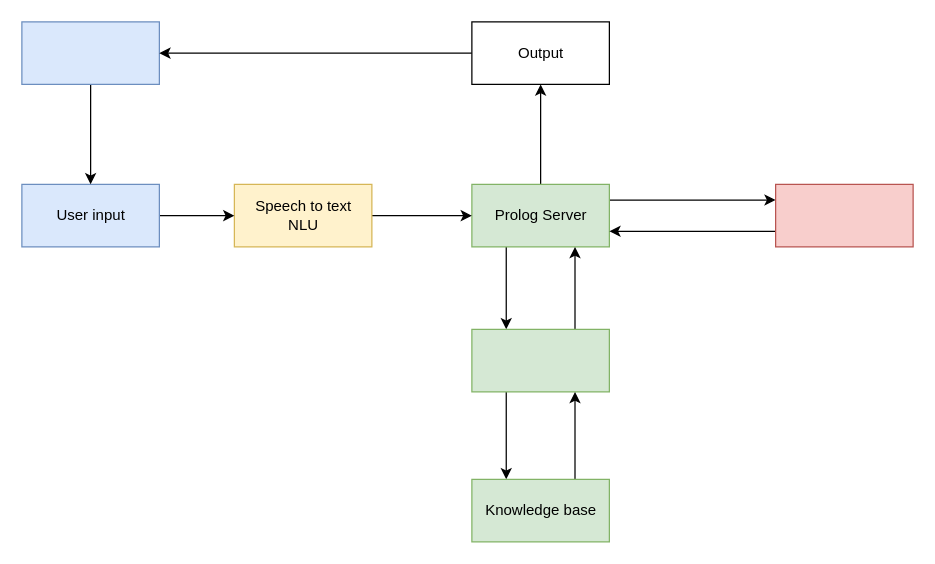
This 935x564 diagram has some shape labels left out. Here are the shapes that lost their labels. From the top down, the centre of each, then its label:
At [90,52]: "User decision".
At [843,215]: "Server(api wrapper, caching, authentication)".
At [540,360]: "Finite Automata".
